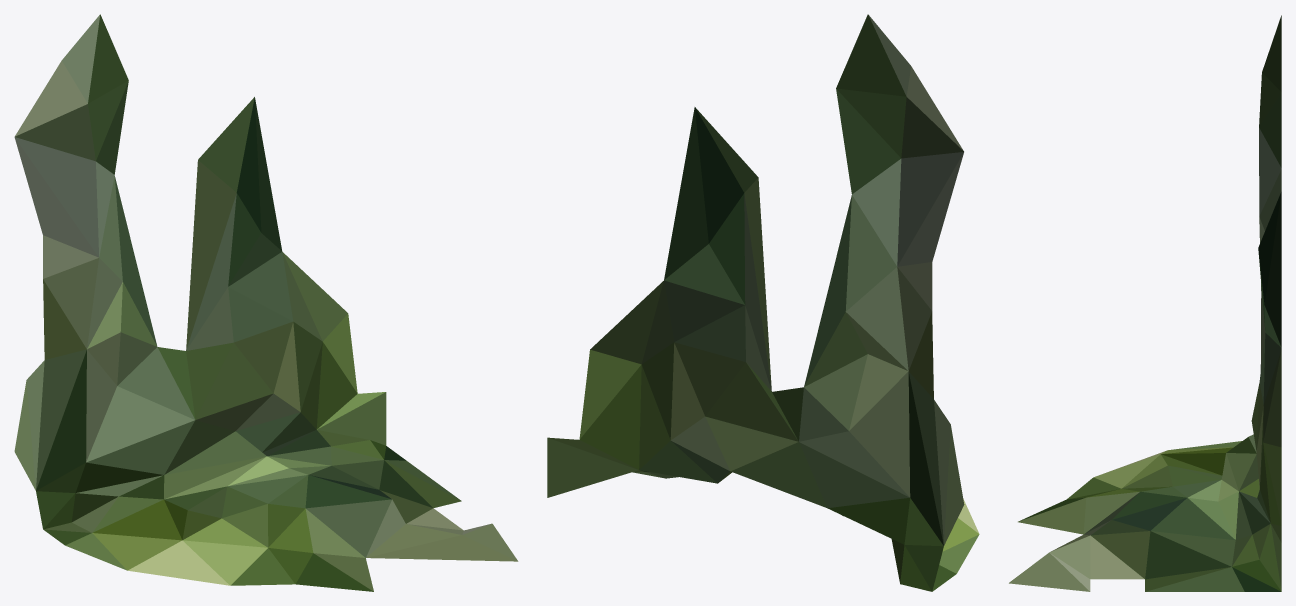
File: Decal_IvyBase-A.fbx
The picture shows the model from 3 angles, left to right: view 1: azimuth 30°, elevation 25°; view 2: azimuth 150°, elevation 25°; view 3: azimuth 270°, elevation 25°; orthographic projection. The views are drawn at different scales.
Visible parts, largest first — view 1: Decal_IvyBase-A; view 2: Decal_IvyBase-A; view 3: Decal_IvyBase-A.
Boxes of the visible parts, x1,y1,x2,y2 form: Decal_IvyBase-A: (14,14,518,591); Decal_IvyBase-A: (547,14,979,591); Decal_IvyBase-A: (1009,15,1281,591).
Size of the model in its own units: 271 by 349 by 191.
